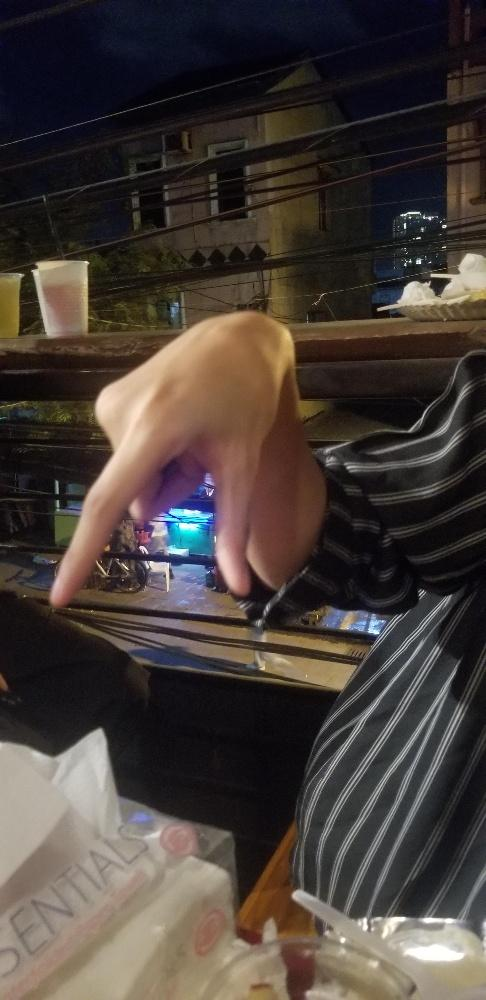q: (44, 309, 294, 611)
